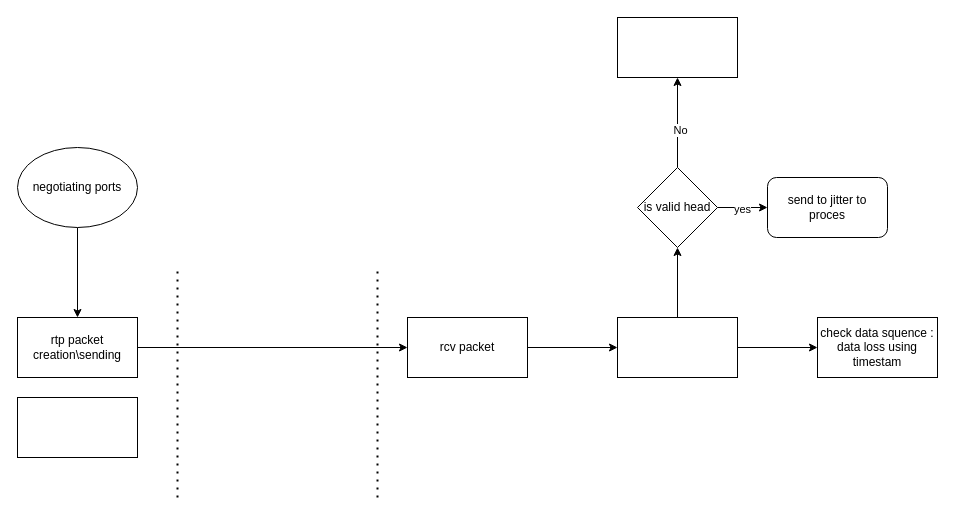
This 955x517 diagram has some shape labels left out. The box of each missing label's shape, as (x1, y1, x2, y2) in pixels:
Error handle: (616, 16, 738, 78)
process it : inspect header: (616, 316, 738, 378)
RTCP packet creation/sending: (16, 396, 138, 458)
